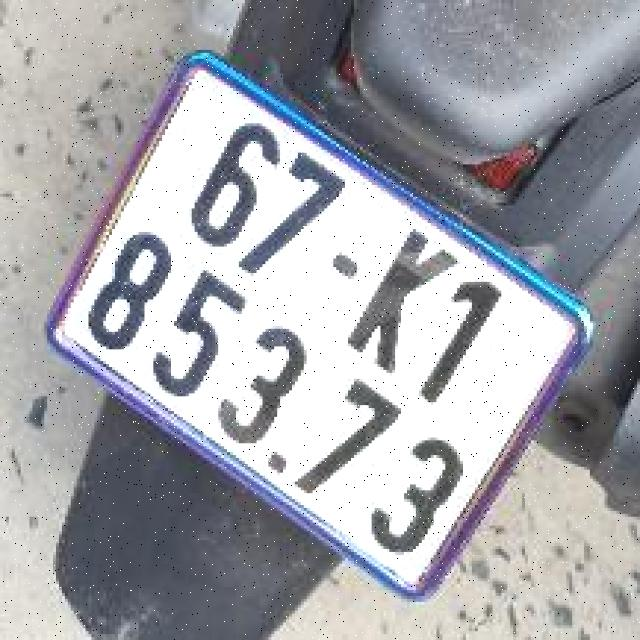1: (404, 261, 522, 424)
3: (356, 420, 481, 567), (207, 310, 328, 453)
5: (137, 253, 266, 413)
6: (174, 103, 297, 255)
7: (227, 134, 362, 292), (286, 367, 419, 510)
8: (72, 215, 194, 365)
K: (336, 215, 472, 389)
